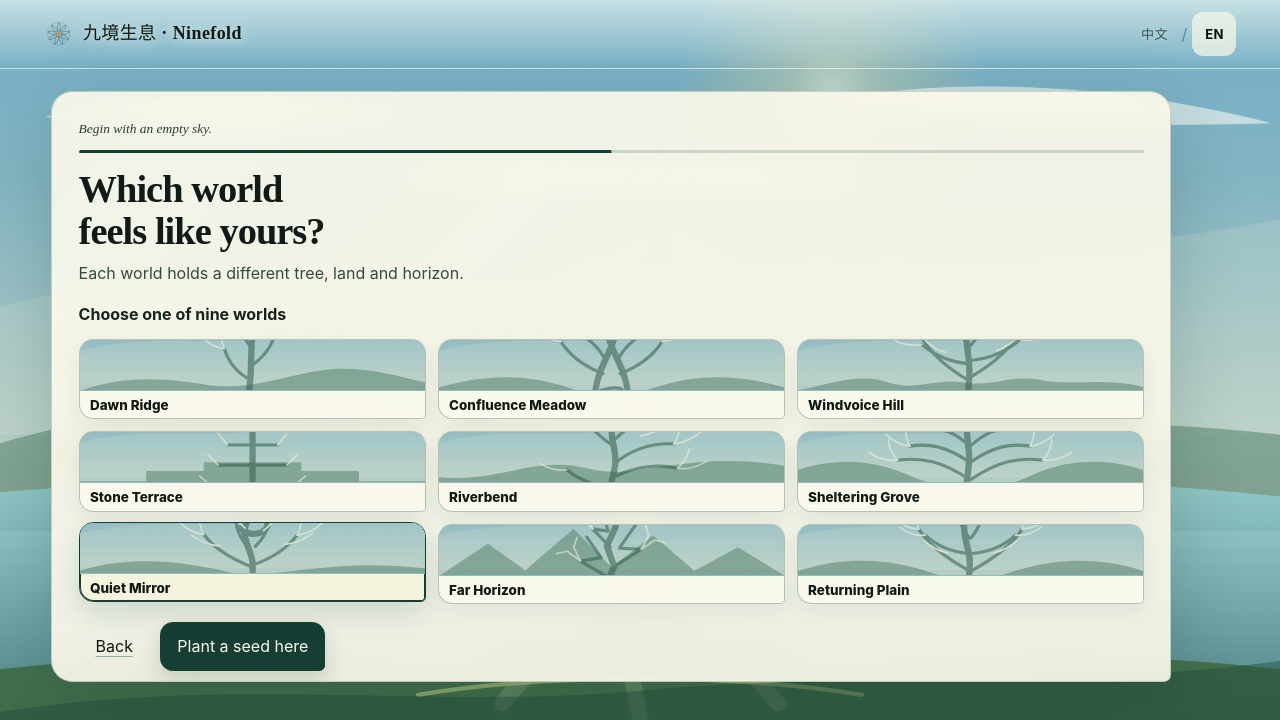
it: Ninefold V3 application journeys › keeps the builder draft and semantic IDs unchanged across a language switch
expect the radio button labelled "Quiet Mirror" is checked: met, box x1=79 y1=522 x2=426 y2=602
Click the button named "Switch to Simplified Chinese" at (1154, 34), box x1=1132 y1=12 x2=1176 y2=56
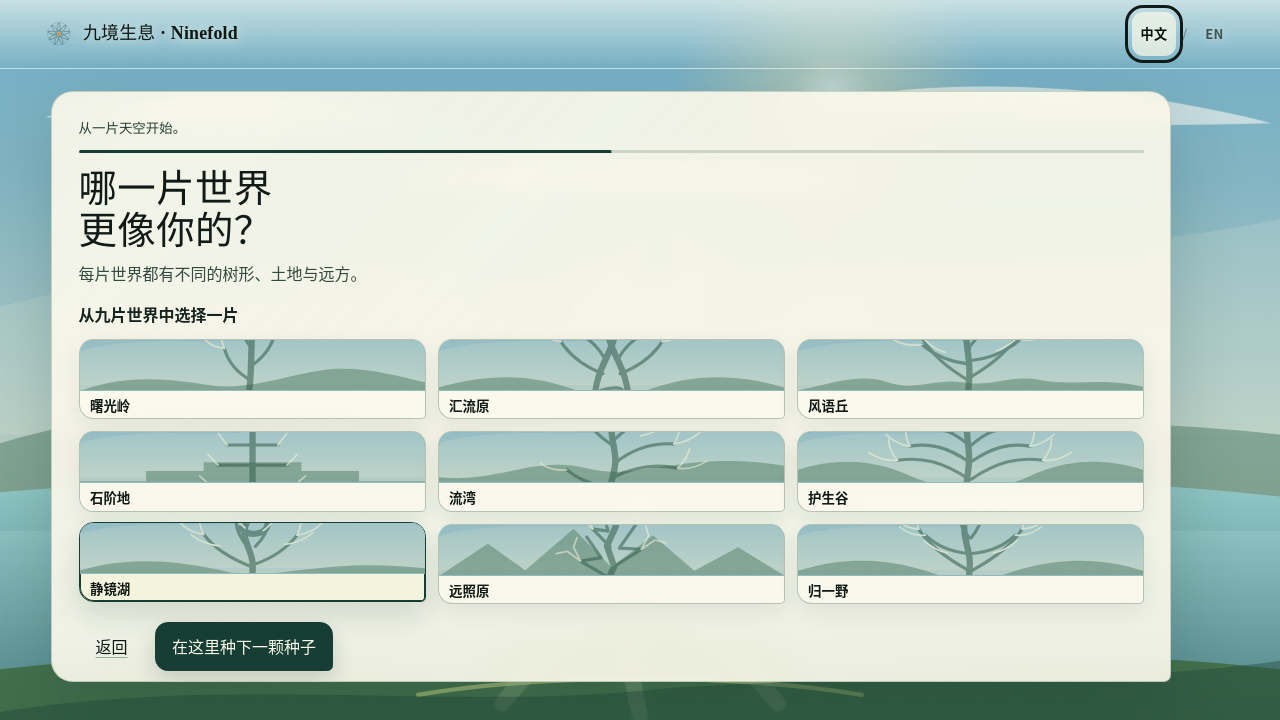
expect the radio button labelled "静镜湖" is checked: met, box x1=79 y1=522 x2=426 y2=602
expect the heading "哪一片世界更像你的？" is shown: met, box x1=79 y1=168 x2=272 y2=252
